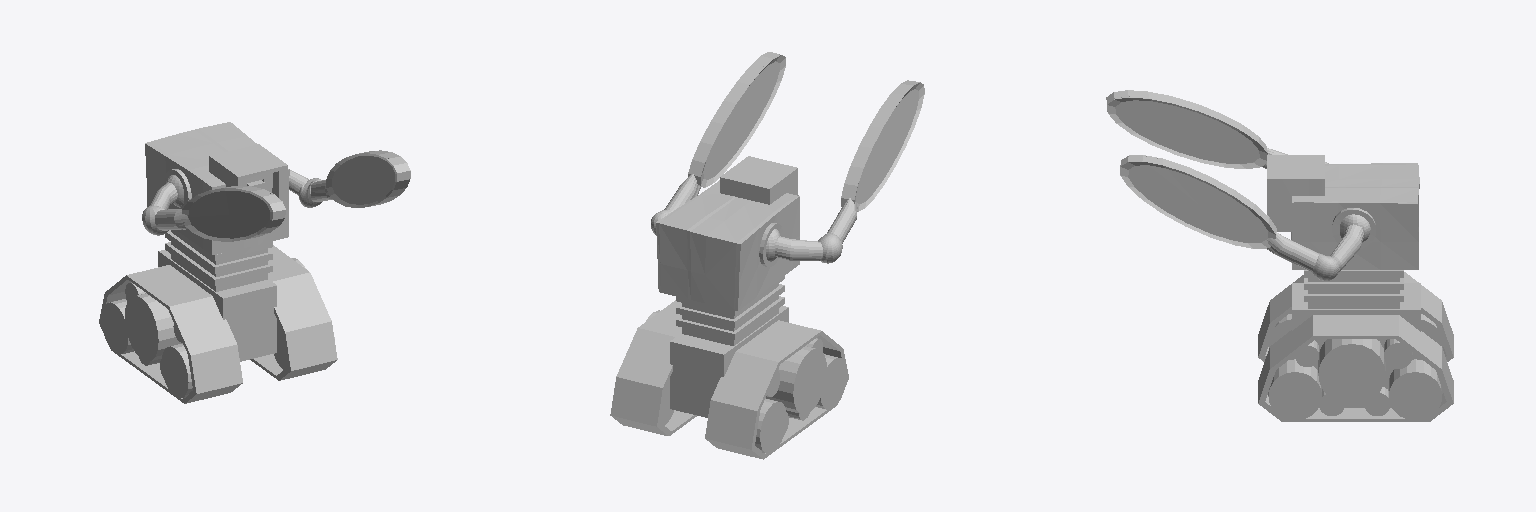
Rendered from chargeUp_Animation_Enemy.obj.
3 renders of one model, left to right at view 1: azimuth 30°, elevation 25°; view 2: azimuth 150°, elevation 25°; view 3: azimuth 270°, elevation 25°, orthographic.
Visible parts, largest first — view 1: enemy_GEO LFTtrackTest_GEO, enemy_GEO LFTblade_GEO, enemy_GEO LFTwheels_GEO, enemy_GEO body_GEO, enemy_GEO lowerBody_GEO, enemy_GEO stomach_GEO, head_GEO enemy_GEO, enemy_GEO LFTforeArm_GEO, enemy_GEO LFTbicep_GEO, enemy_GEO LFTelbow_GEO; view 2: enemy_GEO LFTtrackTest_GEO, enemy_GEO body_GEO, enemy_GEO LFTblade_GEO, enemy_GEO LFTwheels_GEO, enemy_GEO lowerBody_GEO, enemy_GEO stomach_GEO, head_GEO enemy_GEO, enemy_GEO LFTforeArm_GEO, enemy_GEO LFTbicep_GEO, enemy_GEO LFTelbow_GEO; view 3: enemy_GEO LFTblade_GEO, enemy_GEO LFTwheels_GEO, enemy_GEO body_GEO, enemy_GEO LFTtrackTest_GEO, enemy_GEO stomach_GEO, head_GEO enemy_GEO, enemy_GEO lowerBody_GEO, enemy_GEO LFTforeArm_GEO, enemy_GEO LFTbicep_GEO, enemy_GEO LFTshldrSocket_GEO, enemy_GEO LFTelbow_GEO.
Part boxes in pixels (left/top/right/bottom): enemy_GEO LFTtrackTest_GEO: left=99, top=245, right=337, bottom=403; enemy_GEO LFTblade_GEO: left=182, top=150, right=410, bottom=241; enemy_GEO LFTwheels_GEO: left=101, top=258, right=334, bottom=398; enemy_GEO body_GEO: left=145, top=122, right=289, bottom=254; enemy_GEO lowerBody_GEO: left=158, top=250, right=276, bottom=361; enemy_GEO stomach_GEO: left=165, top=230, right=272, bottom=291; head_GEO enemy_GEO: left=209, top=144, right=287, bottom=217; enemy_GEO LFTforeArm_GEO: left=155, top=180, right=332, bottom=230; enemy_GEO LFTbicep_GEO: left=150, top=170, right=308, bottom=209; enemy_GEO LFTelbow_GEO: left=142, top=178, right=321, bottom=235; enemy_GEO LFTtrackTest_GEO: left=610, top=300, right=848, bottom=459; enemy_GEO body_GEO: left=656, top=180, right=799, bottom=310; enemy_GEO LFTblade_GEO: left=688, top=52, right=924, bottom=211; enemy_GEO LFTwheels_GEO: left=646, top=310, right=846, bottom=453; enemy_GEO lowerBody_GEO: left=670, top=306, right=788, bottom=417; enemy_GEO stomach_GEO: left=676, top=276, right=784, bottom=345; head_GEO enemy_GEO: left=720, top=156, right=798, bottom=204; enemy_GEO LFTforeArm_GEO: left=664, top=174, right=857, bottom=243; enemy_GEO LFTbicep_GEO: left=775, top=236, right=822, bottom=260; enemy_GEO LFTelbow_GEO: left=651, top=210, right=842, bottom=263; enemy_GEO LFTblade_GEO: left=1106, top=90, right=1276, bottom=248; enemy_GEO LFTwheels_GEO: left=1268, top=314, right=1441, bottom=420; enemy_GEO body_GEO: left=1291, top=163, right=1419, bottom=269; enemy_GEO LFTtrackTest_GEO: left=1258, top=272, right=1453, bottom=421; enemy_GEO stomach_GEO: left=1304, top=270, right=1403, bottom=308; head_GEO enemy_GEO: left=1267, top=155, right=1324, bottom=231; enemy_GEO lowerBody_GEO: left=1292, top=283, right=1420, bottom=331; enemy_GEO LFTforeArm_GEO: left=1262, top=148, right=1318, bottom=271; enemy_GEO LFTbicep_GEO: left=1330, top=224, right=1363, bottom=271; enemy_GEO LFTshldrSocket_GEO: left=1332, top=208, right=1375, bottom=248; enemy_GEO LFTelbow_GEO: left=1312, top=162, right=1339, bottom=280.
Size of the model in its own units: 19.98 by 27.37 by 32.68.